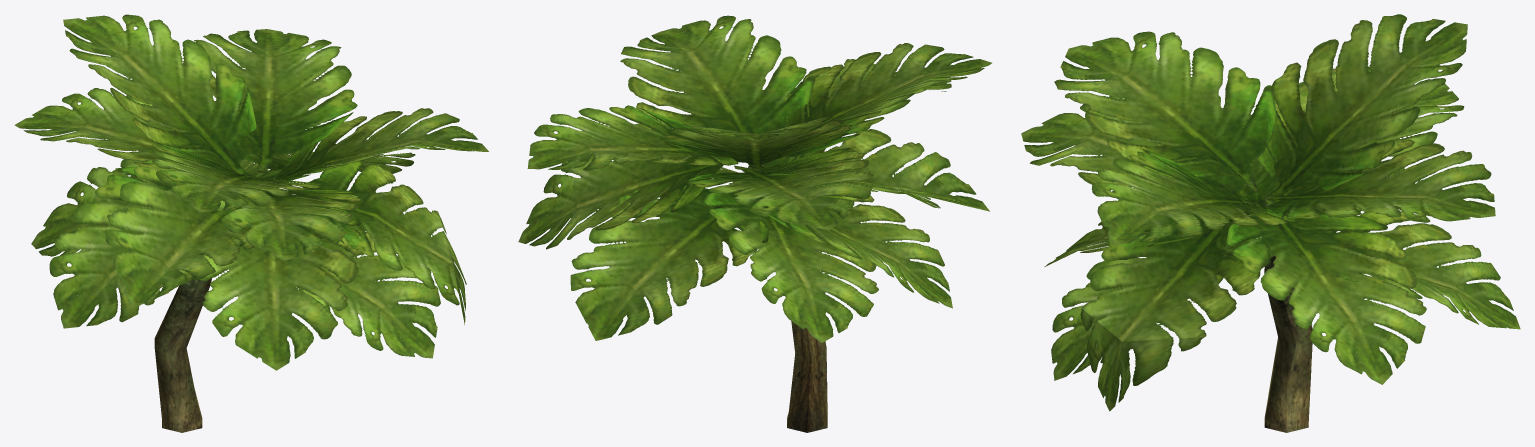
File: S_Tree_Green077_A1.FBX
The picture shows the model from 3 angles, left to right: view 1: azimuth 30°, elevation 25°; view 2: azimuth 150°, elevation 25°; view 3: azimuth 270°, elevation 25°; orthographic projection. The views are drawn at different scales.
Visible parts, largest first — view 1: S_Tree_Green077_A1; view 2: S_Tree_Green077_A1; view 3: S_Tree_Green077_A1.
Part boxes in pixels (bbox=[...]): S_Tree_Green077_A1: bbox=[14, 14, 488, 432]; S_Tree_Green077_A1: bbox=[518, 15, 991, 432]; S_Tree_Green077_A1: bbox=[1021, 14, 1520, 432].
Size of the model in its own units: 225 by 198 by 237.
